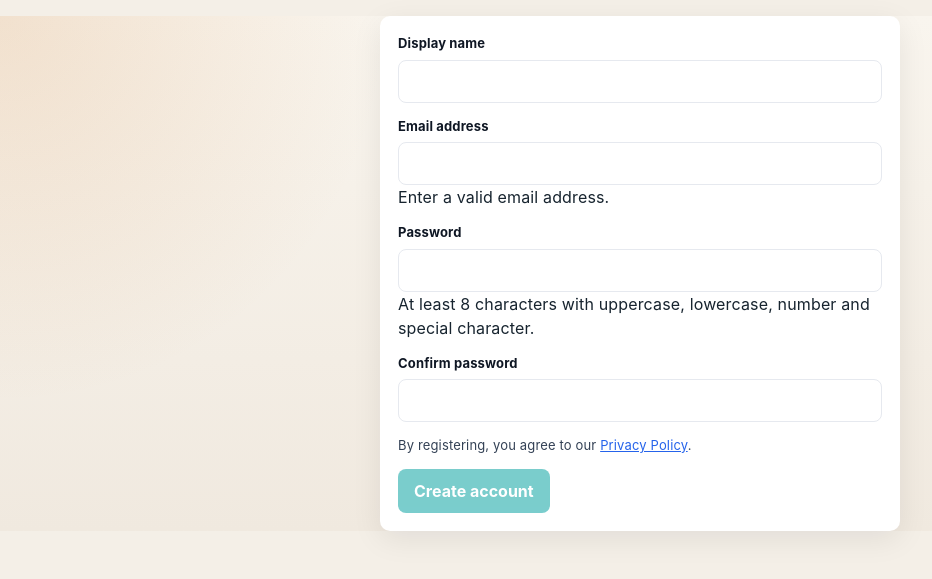
RegistrationForm › shows password mismatch error when confirm password differs
This screenshot has width=932, height=579.
Type "SecureP@ss1" into the password field labelled "Password" at [640, 270], box top-left (398, 248), bottom-right (882, 292)
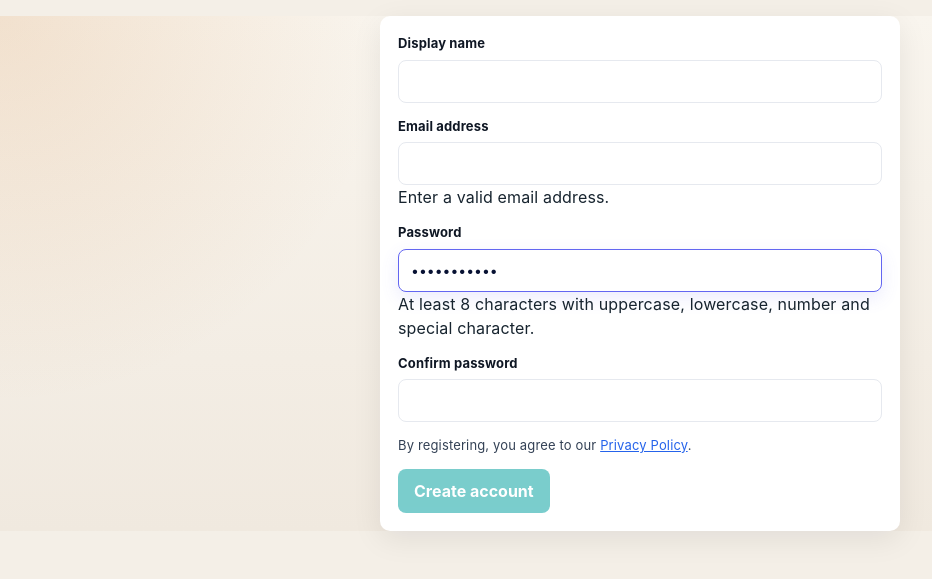
Type "WrongP@ss1" into the password field labelled "Confirm password" at [640, 400], box top-left (398, 379), bottom-right (882, 422)
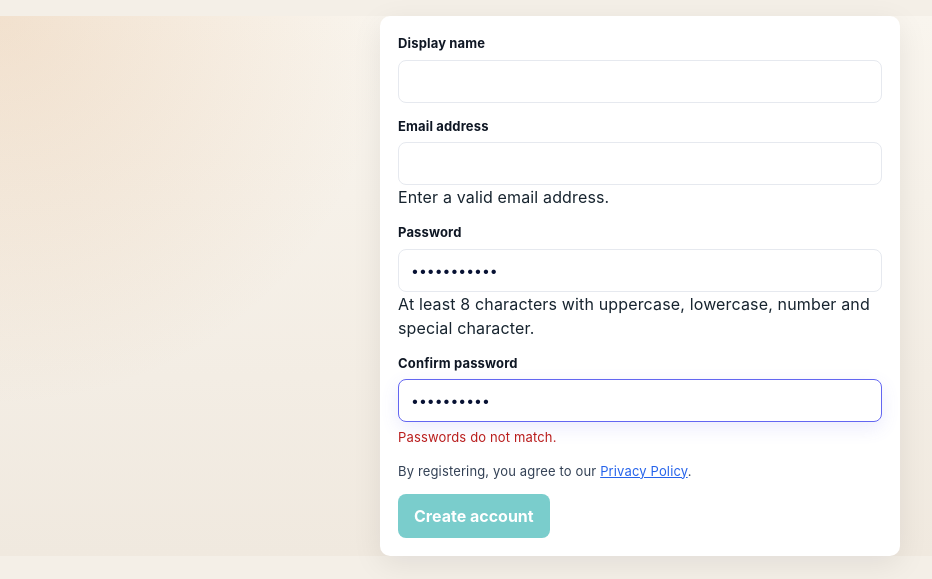
Expected: the message reads "Passwords do not match.", top-left (398, 429), bottom-right (557, 445)
